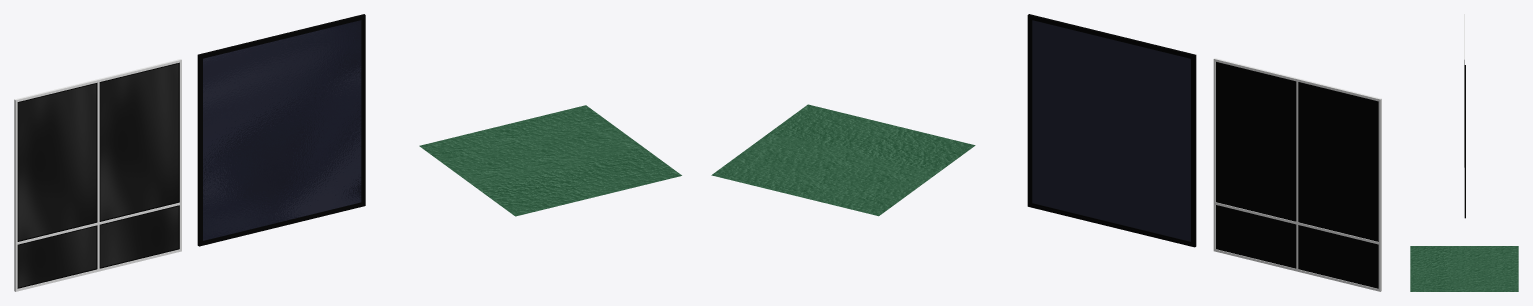
Rendered from side_window.fbx.
3 renders of one model, left to right at view 1: azimuth 30°, elevation 25°; view 2: azimuth 150°, elevation 25°; view 3: azimuth 270°, elevation 25°, orthographic. The views are drawn at different scales.
Visible parts, largest first — view 1: Window.001, Window, Plane; view 2: Window.001, Window, Plane; view 3: Plane, Window.001, Window.
Boxes of the visible parts, x1,y1,x2,y2 form: Window.001: (197, 14, 365, 246); Window: (14, 59, 181, 291); Plane: (419, 105, 681, 216); Window.001: (1027, 14, 1196, 247); Window: (1213, 58, 1381, 291); Plane: (711, 104, 975, 216); Plane: (1410, 246, 1518, 291); Window.001: (1464, 65, 1465, 218); Window: (1464, 14, 1464, 167).
Bounding box in the file's own units: 741 × 200 × 219.
5 materials, 3 textured.
